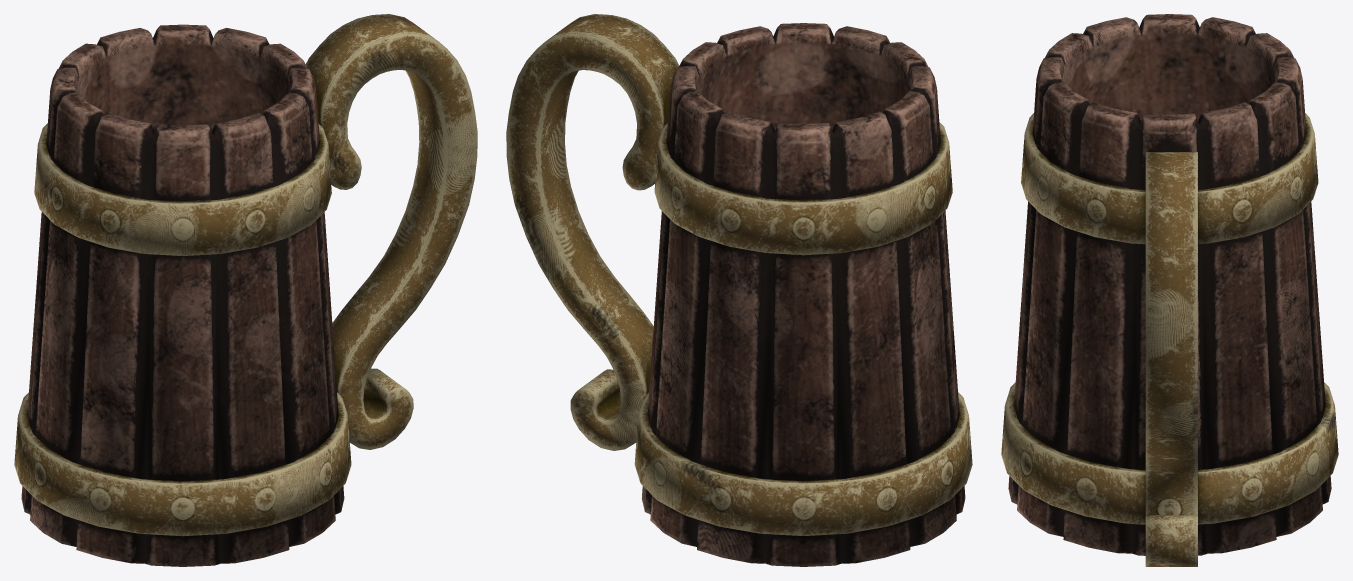
The model's file is viking_mug.glb.
3 renders of one model, left to right at view 1: azimuth 30°, elevation 25°; view 2: azimuth 150°, elevation 25°; view 3: azimuth 270°, elevation 25°, orthographic.
Parts seen in each view (by area): view 1: 1_low, 2_low, 3_low; view 2: 1_low, 2_low, 3_low; view 3: 1_low, 2_low, 3_low.
Part boxes in pixels (x1=…): 1_low: x1=21, y1=24, x2=344, y2=566; 2_low: x1=14, y1=123, x2=351, y2=536; 3_low: x1=305, y1=14, x2=477, y2=449; 1_low: x1=641, y1=23, x2=965, y2=566; 2_low: x1=634, y1=122, x2=972, y2=535; 3_low: x1=506, y1=14, x2=679, y2=450; 1_low: x1=1008, y1=14, x2=1331, y2=555; 2_low: x1=1001, y1=113, x2=1338, y2=524; 3_low: x1=1145, y1=152, x2=1197, y2=566.
Size of the model in its own units: 2 by 1.91 by 1.36.
Materials: 1 (1 with a texture image).
